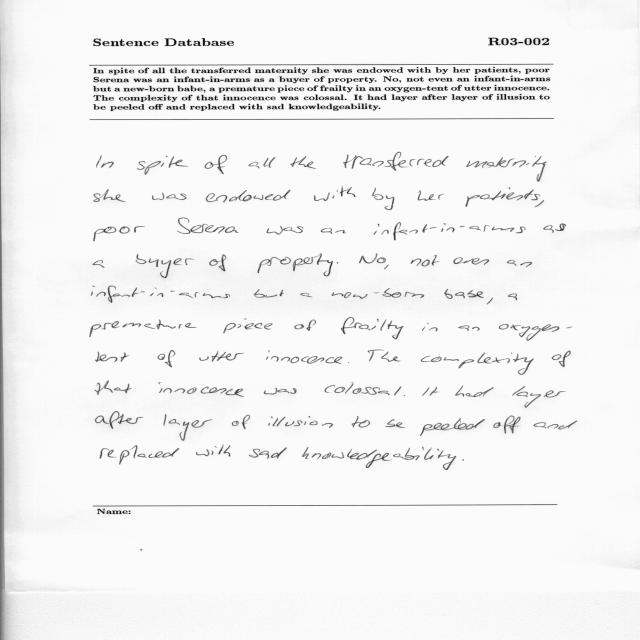word: (302, 447, 456, 470), (373, 222, 526, 241), (420, 352, 534, 375), (91, 286, 230, 303), (466, 156, 547, 182), (343, 152, 449, 171), (90, 320, 197, 337), (258, 254, 333, 277), (100, 445, 179, 465), (466, 187, 541, 207), (135, 254, 194, 278), (341, 318, 403, 340), (163, 414, 213, 441), (158, 382, 244, 397), (499, 324, 572, 341), (512, 386, 566, 408), (420, 418, 485, 436), (325, 382, 402, 396), (266, 350, 342, 364), (332, 288, 424, 299), (206, 190, 290, 202), (177, 218, 239, 234), (137, 156, 188, 175), (96, 411, 144, 429), (268, 416, 333, 428), (94, 226, 145, 241), (223, 319, 273, 334), (314, 186, 356, 201), (372, 188, 395, 211), (95, 381, 132, 395), (493, 416, 521, 434), (199, 351, 244, 362), (455, 385, 494, 397), (249, 447, 287, 459), (359, 254, 389, 269), (196, 445, 231, 457), (205, 155, 227, 174), (94, 189, 126, 202), (444, 289, 484, 299), (368, 350, 401, 362), (534, 421, 578, 430), (96, 352, 130, 362), (290, 156, 316, 169), (267, 226, 304, 235), (158, 350, 176, 367), (552, 351, 571, 367), (249, 157, 276, 168), (209, 255, 226, 272), (453, 257, 489, 265), (418, 190, 444, 201), (254, 289, 284, 298), (294, 319, 316, 331), (232, 415, 250, 429), (152, 193, 186, 200), (96, 155, 114, 168), (264, 388, 297, 395), (543, 223, 566, 233), (422, 255, 440, 266), (352, 416, 370, 427), (386, 419, 406, 428), (507, 260, 532, 267), (422, 387, 439, 396), (321, 228, 346, 234), (458, 325, 480, 331), (422, 323, 438, 331), (93, 260, 104, 268), (411, 259, 422, 267), (535, 200, 544, 207), (508, 294, 517, 301), (301, 293, 313, 297), (487, 298, 493, 305), (462, 459, 464, 461), (337, 262, 338, 264), (348, 362, 349, 363), (404, 395, 405, 396)
